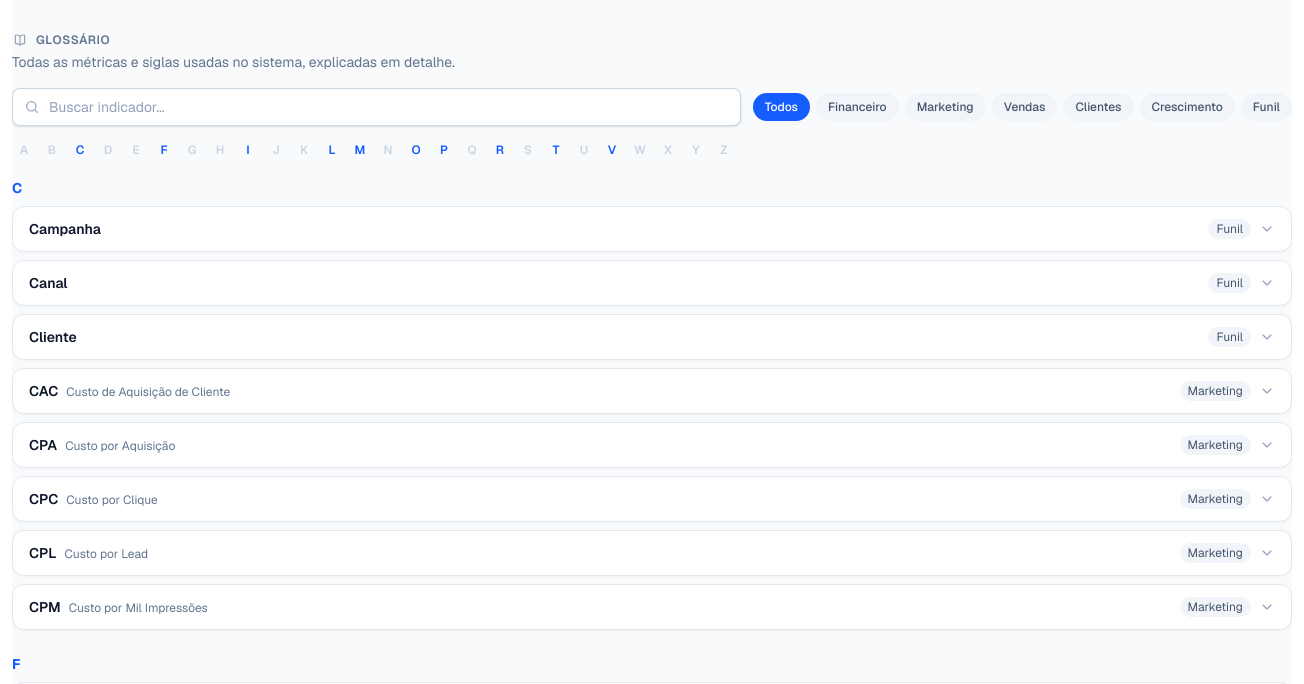
Test: GlossaryPage › clicar em 'Todos' remove o filtro de categoria
Step 1. Click the button "Financeiro" → coordinates (857, 107), box [816,93,899,121]
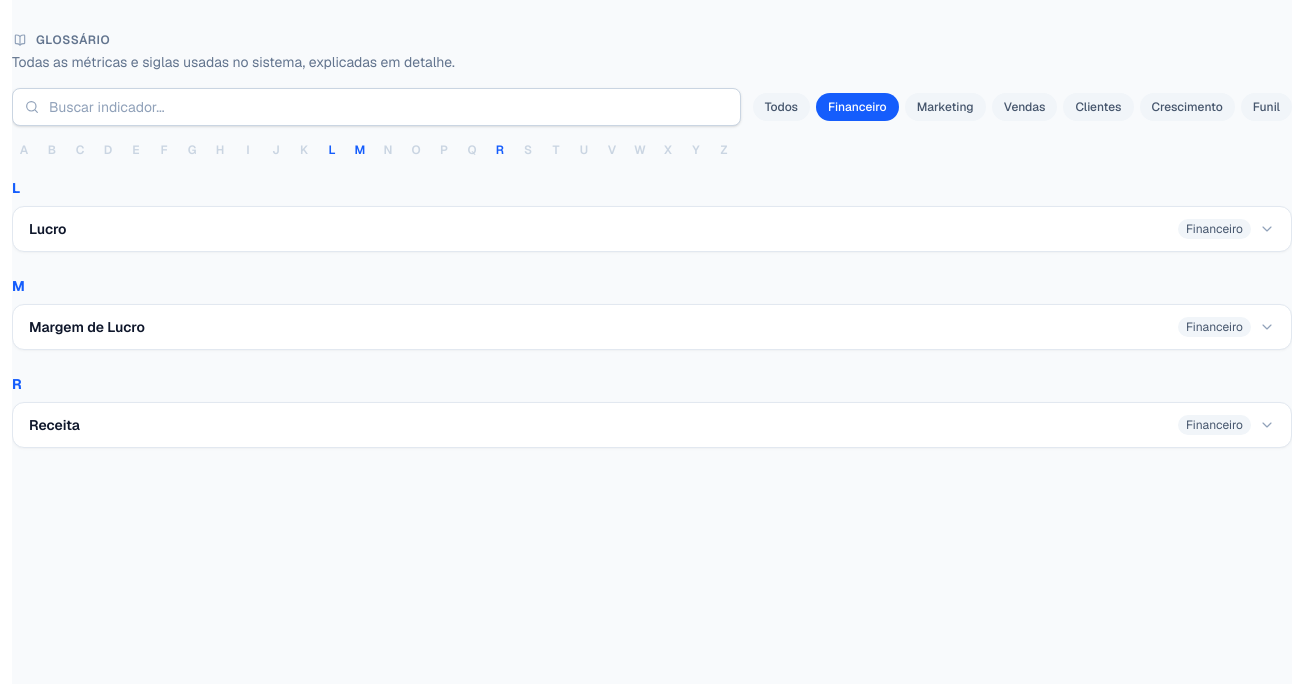
Step 2. Click the button "Todos" → coordinates (781, 107), box [753,93,810,121]
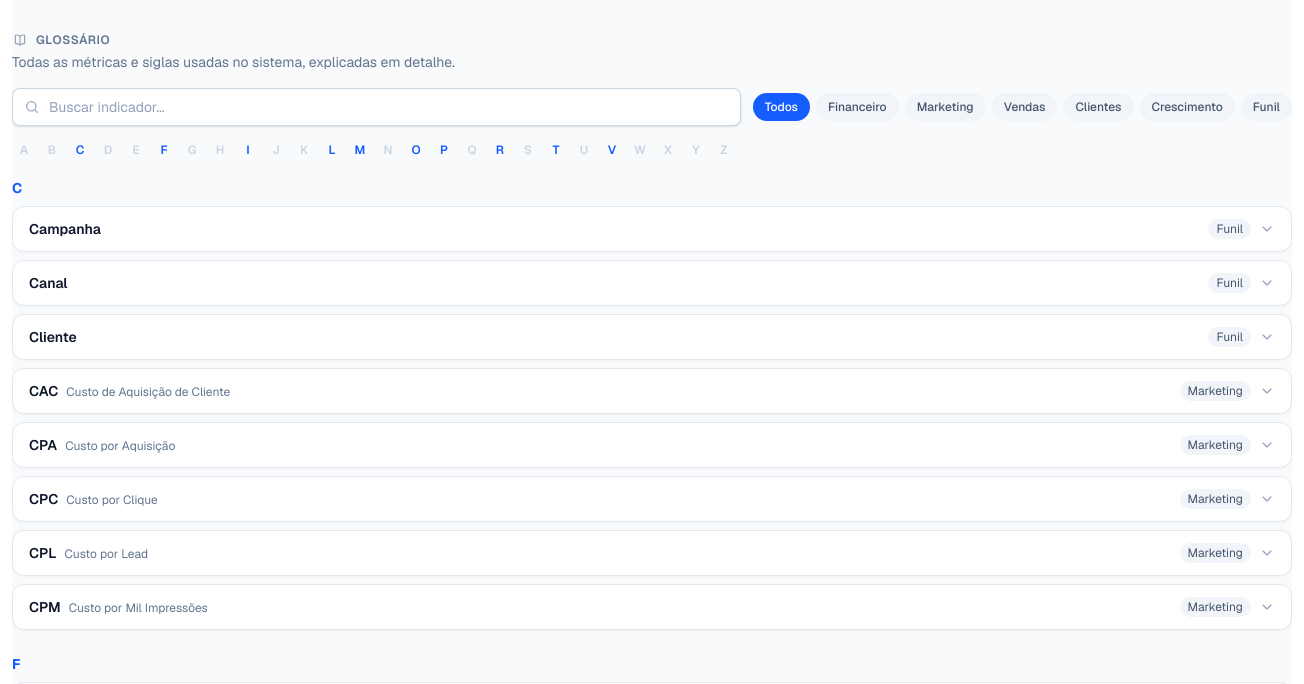
Expected: the text "CAC" is shown, [29,381,58,401]
